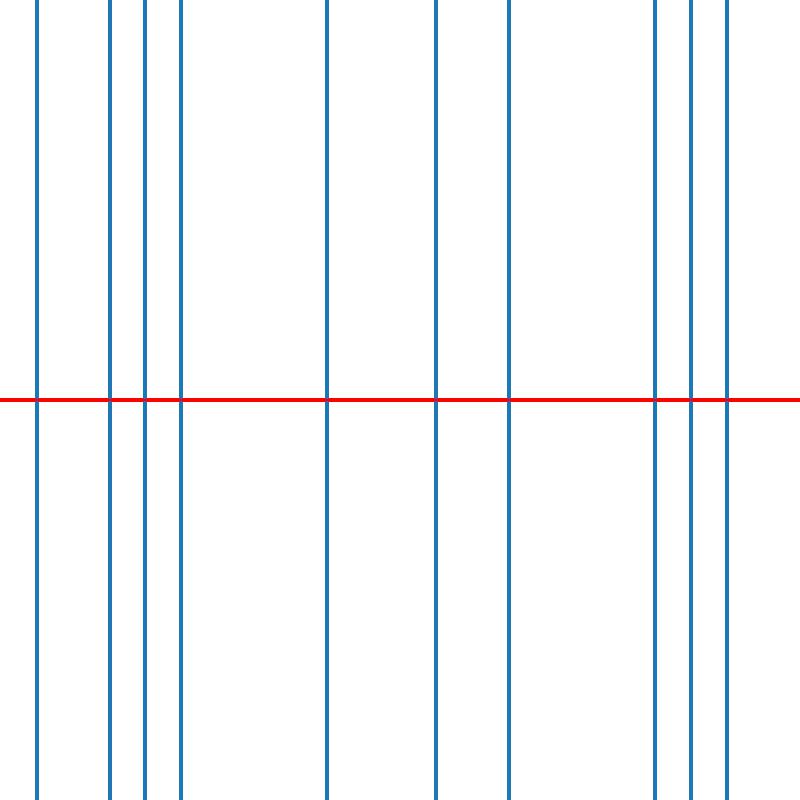root: (432, 396, 440, 404), (32, 396, 40, 404), (141, 396, 149, 404), (650, 396, 658, 404), (178, 396, 185, 404), (505, 396, 512, 404), (323, 396, 330, 404), (105, 396, 112, 404), (687, 396, 694, 404), (723, 396, 730, 404)
